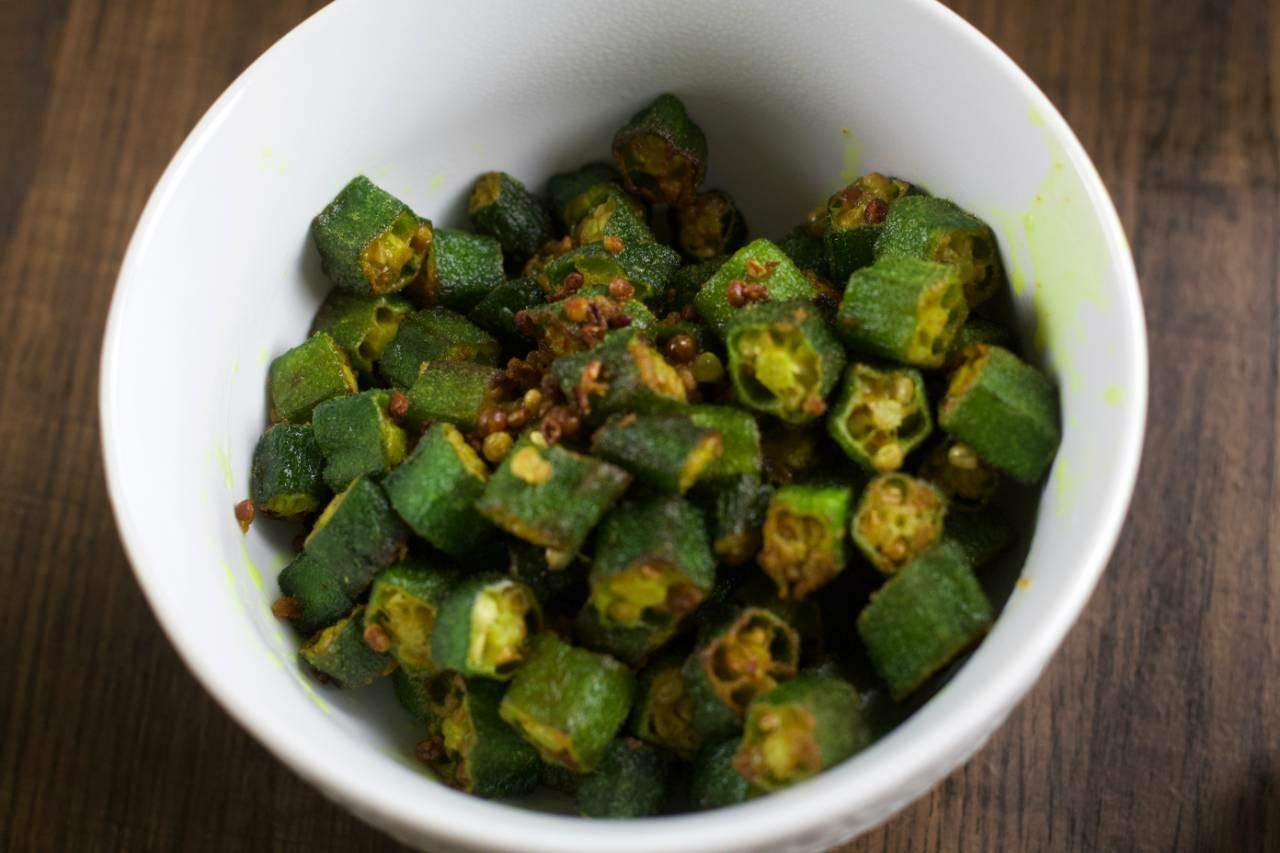BhindiMasala: (237, 84, 1059, 816)
